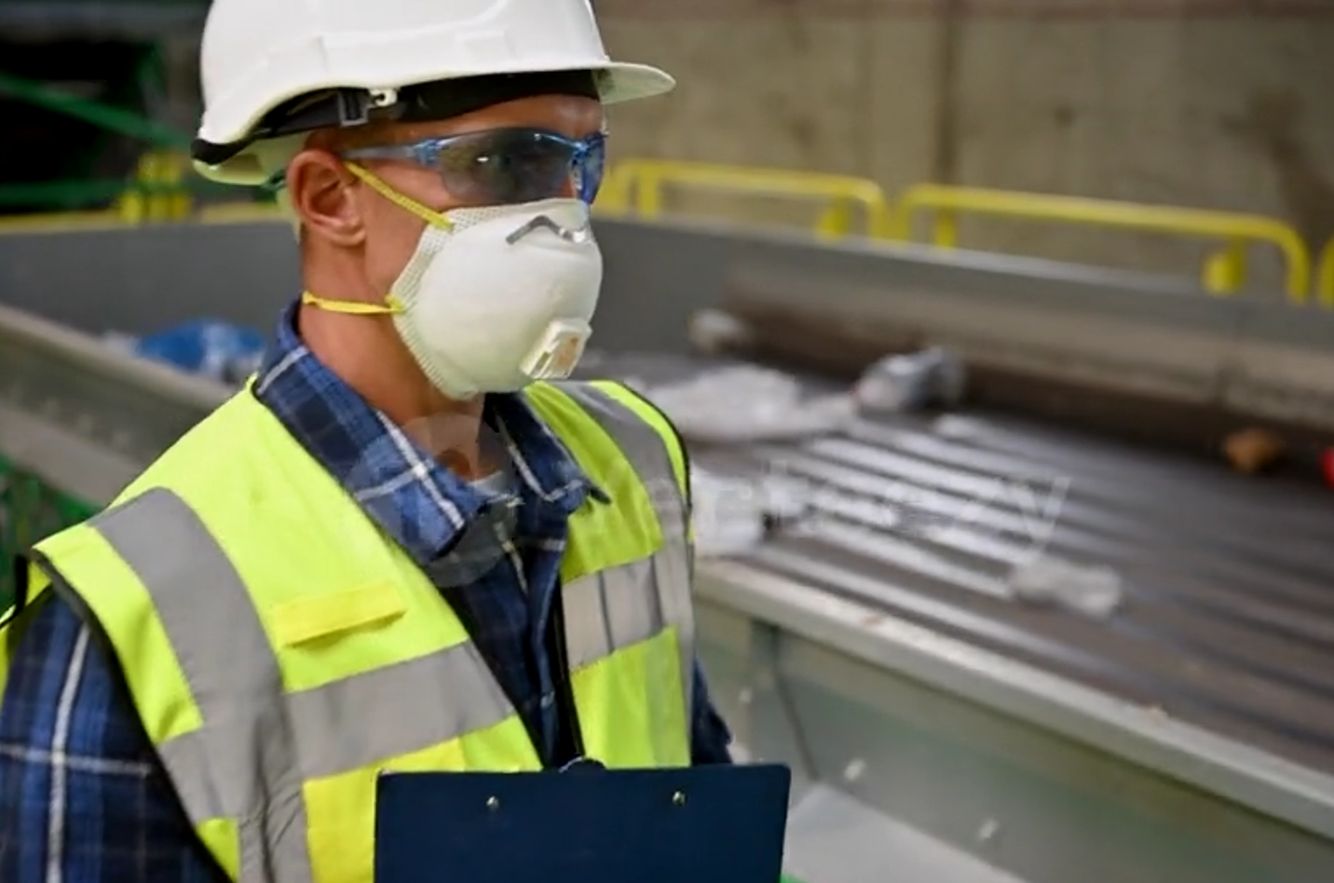safety_helmet: (188, 1, 677, 402), (188, 0, 677, 188)
